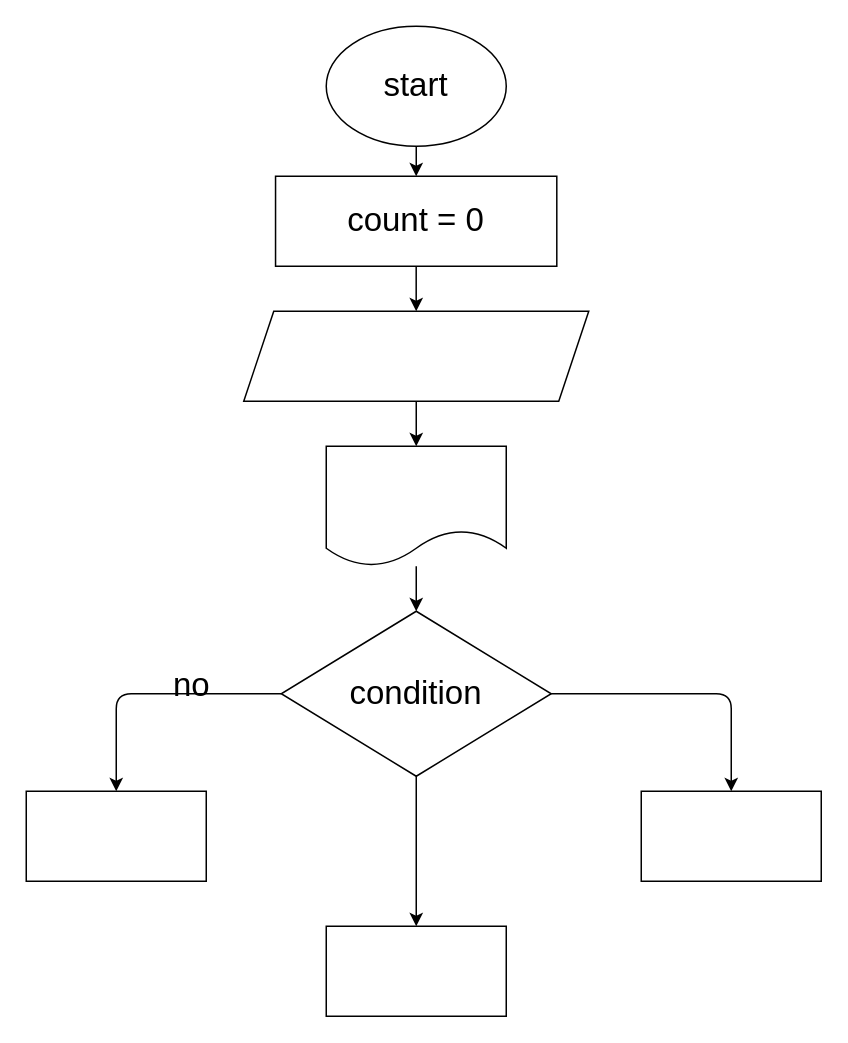
Image size: 848x1043. Some labels were removed from this diagram. The shapes that lost their labels are listed below. From the top down, each one's centre as x and y in pixels, then its label:
(x=415, y=355): ввод count
(x=415, y=505): вывод res
